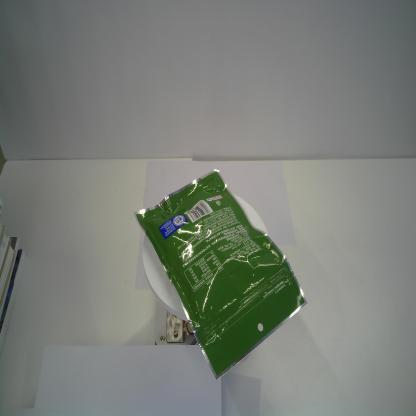Dried Fruit: (133, 167, 308, 382)
